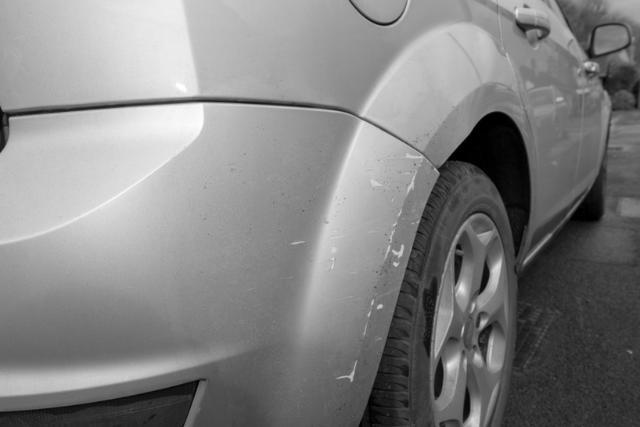Bumper: (274, 110, 427, 407)
